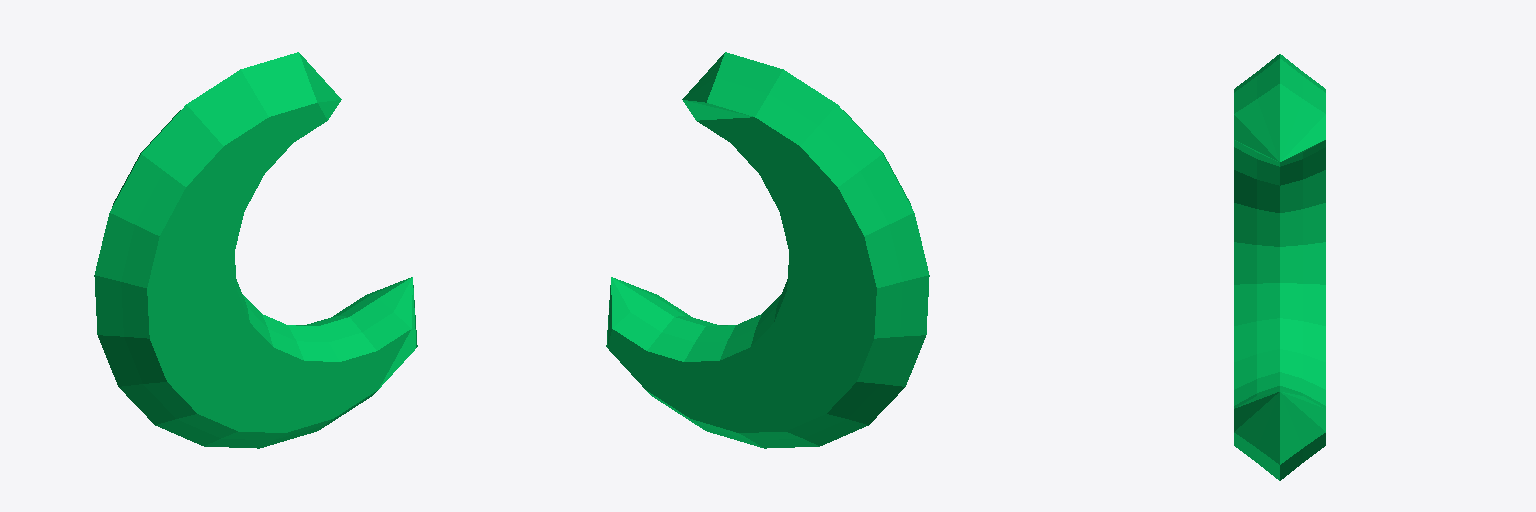
Rendered from moon.obj.
3 renders of one model, left to right at view 1: azimuth 30°, elevation 25°; view 2: azimuth 150°, elevation 25°; view 3: azimuth 270°, elevation 25°, orthographic.
Parts seen in each view (by area): view 1: 円柱; view 2: 円柱; view 3: 円柱.
Part boxes in pixels (x1,y1,x2,y2): 円柱: (94, 52, 417, 448); 円柱: (606, 52, 929, 448); 円柱: (1234, 54, 1325, 480).
Size of the model in its own units: 2.49 by 2.85 by 0.6146.